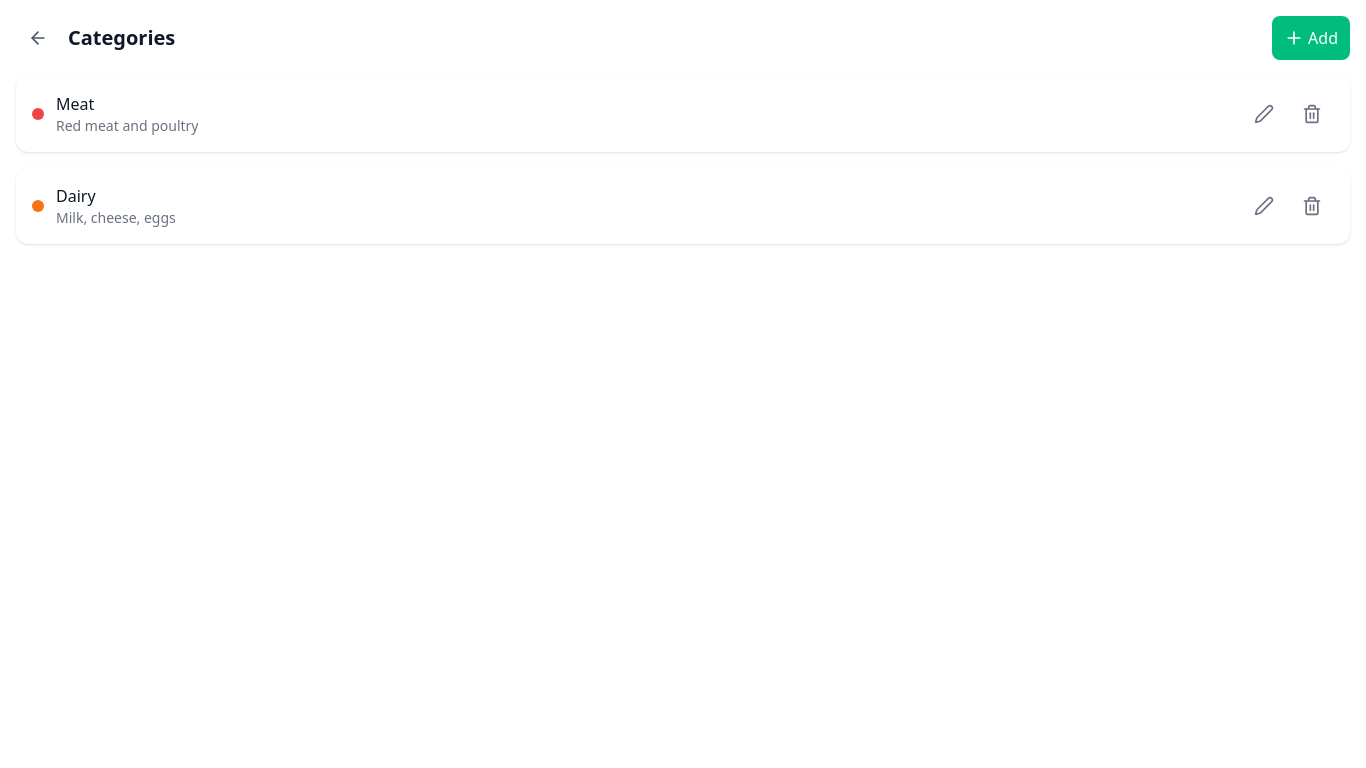
Test: CategoriesPage › pins in-use category copy: Can't delete Meat — 2 items still use this category.
Click the button named "delete meat" at (1312, 114), box x1=1290 y1=92 x2=1334 y2=136
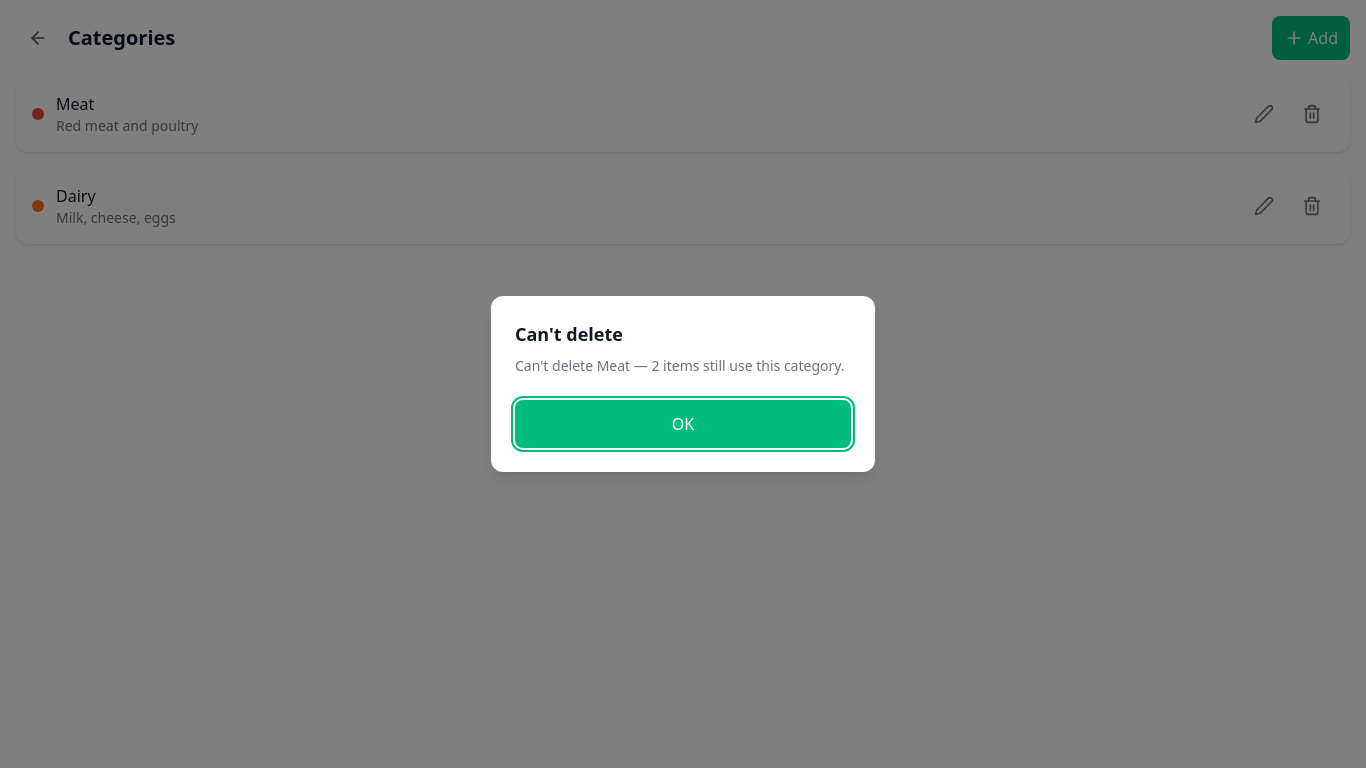
Result: the text "Can't delete Meat — 2 items still use this category." is shown at x1=515 y1=356 x2=851 y2=376
Result: the button "OK" is shown at x1=515 y1=400 x2=851 y2=448
